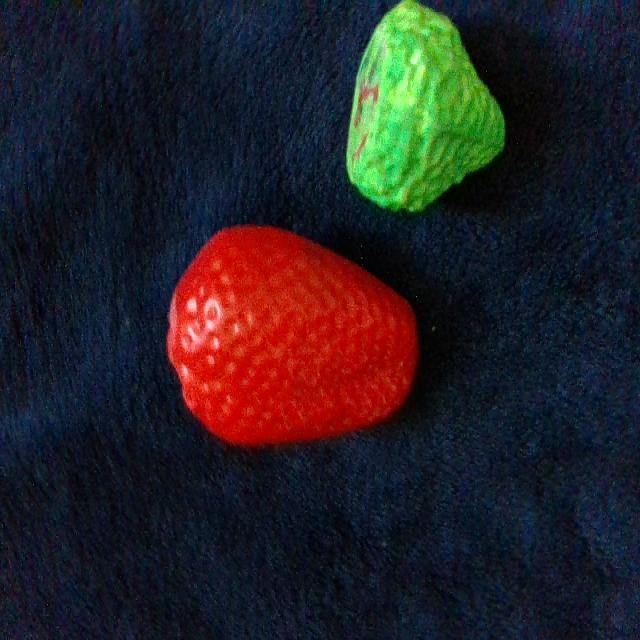grande_roja: (168, 227, 417, 444)
verde: (347, 0, 504, 211)
